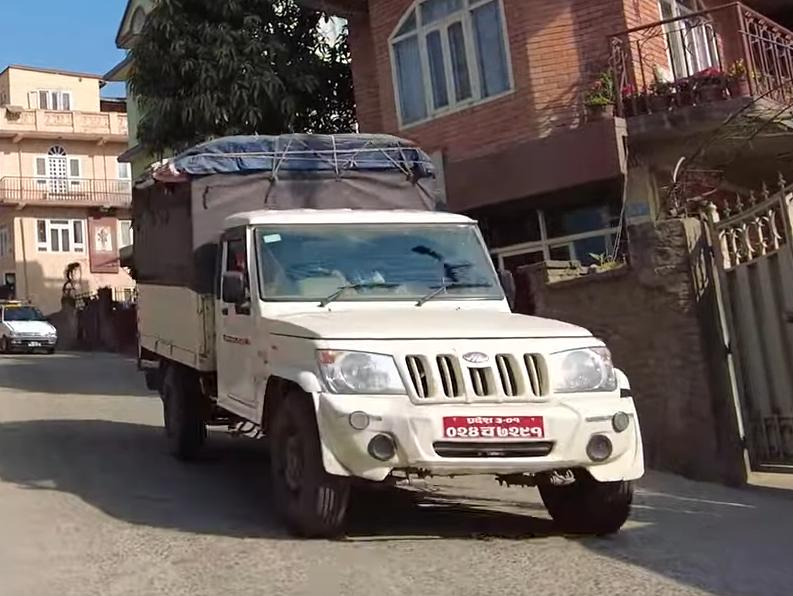taxi: (0, 289, 72, 361)
transport_vehicle: (126, 115, 657, 547)
